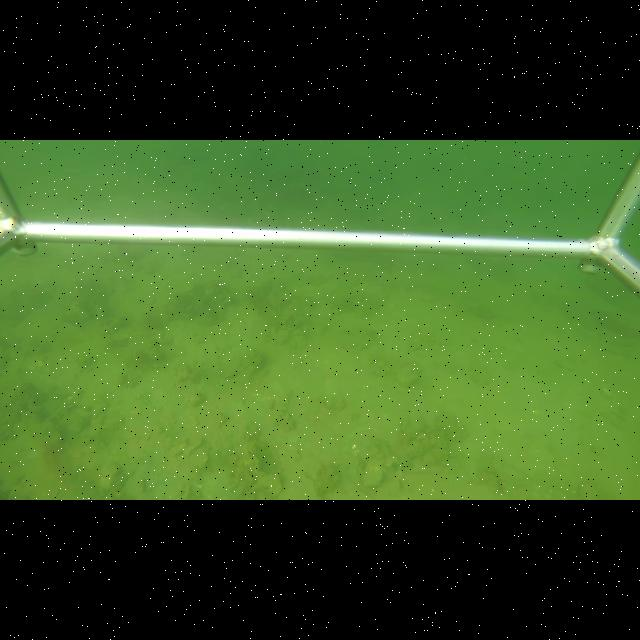Oyster-Closed: (362, 456, 388, 493)
